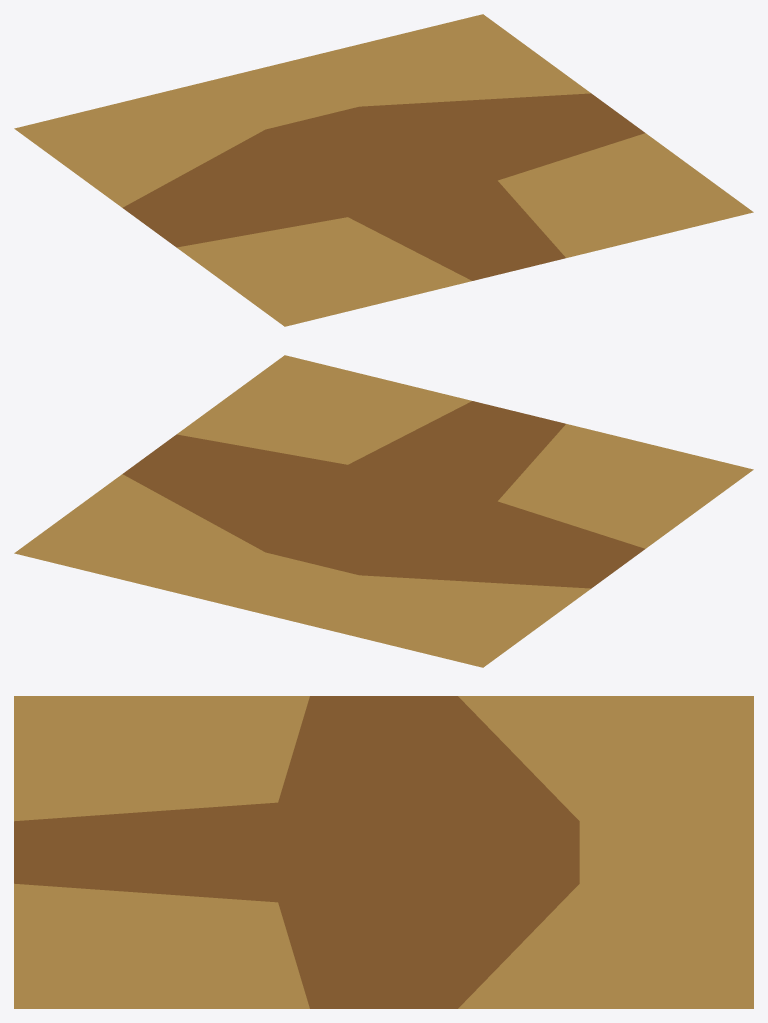
File: SA_Env_Sand_Corner1.fbx
The picture shows the model from 3 angles, top to bottom: view 1: azimuth 30°, elevation 25°; view 2: azimuth 150°, elevation 25°; view 3: azimuth 270°, elevation 25°; orthographic projection. The views are drawn at different scales.
Visible parts, largest first — view 1: SA_Env_Sand_Corner1; view 2: SA_Env_Sand_Corner1; view 3: SA_Env_Sand_Corner1.
Boxes of the visible parts, box(x1,y1,x2,y2) form: SA_Env_Sand_Corner1: box(14, 14, 753, 326); SA_Env_Sand_Corner1: box(14, 355, 753, 667); SA_Env_Sand_Corner1: box(14, 696, 753, 1008).
Size of the model in its own units: 15 by 0 by 15.
